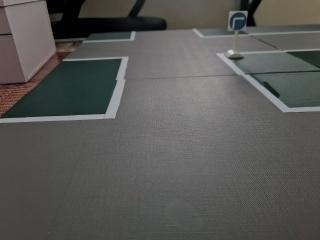right: (223, 8, 256, 43)
